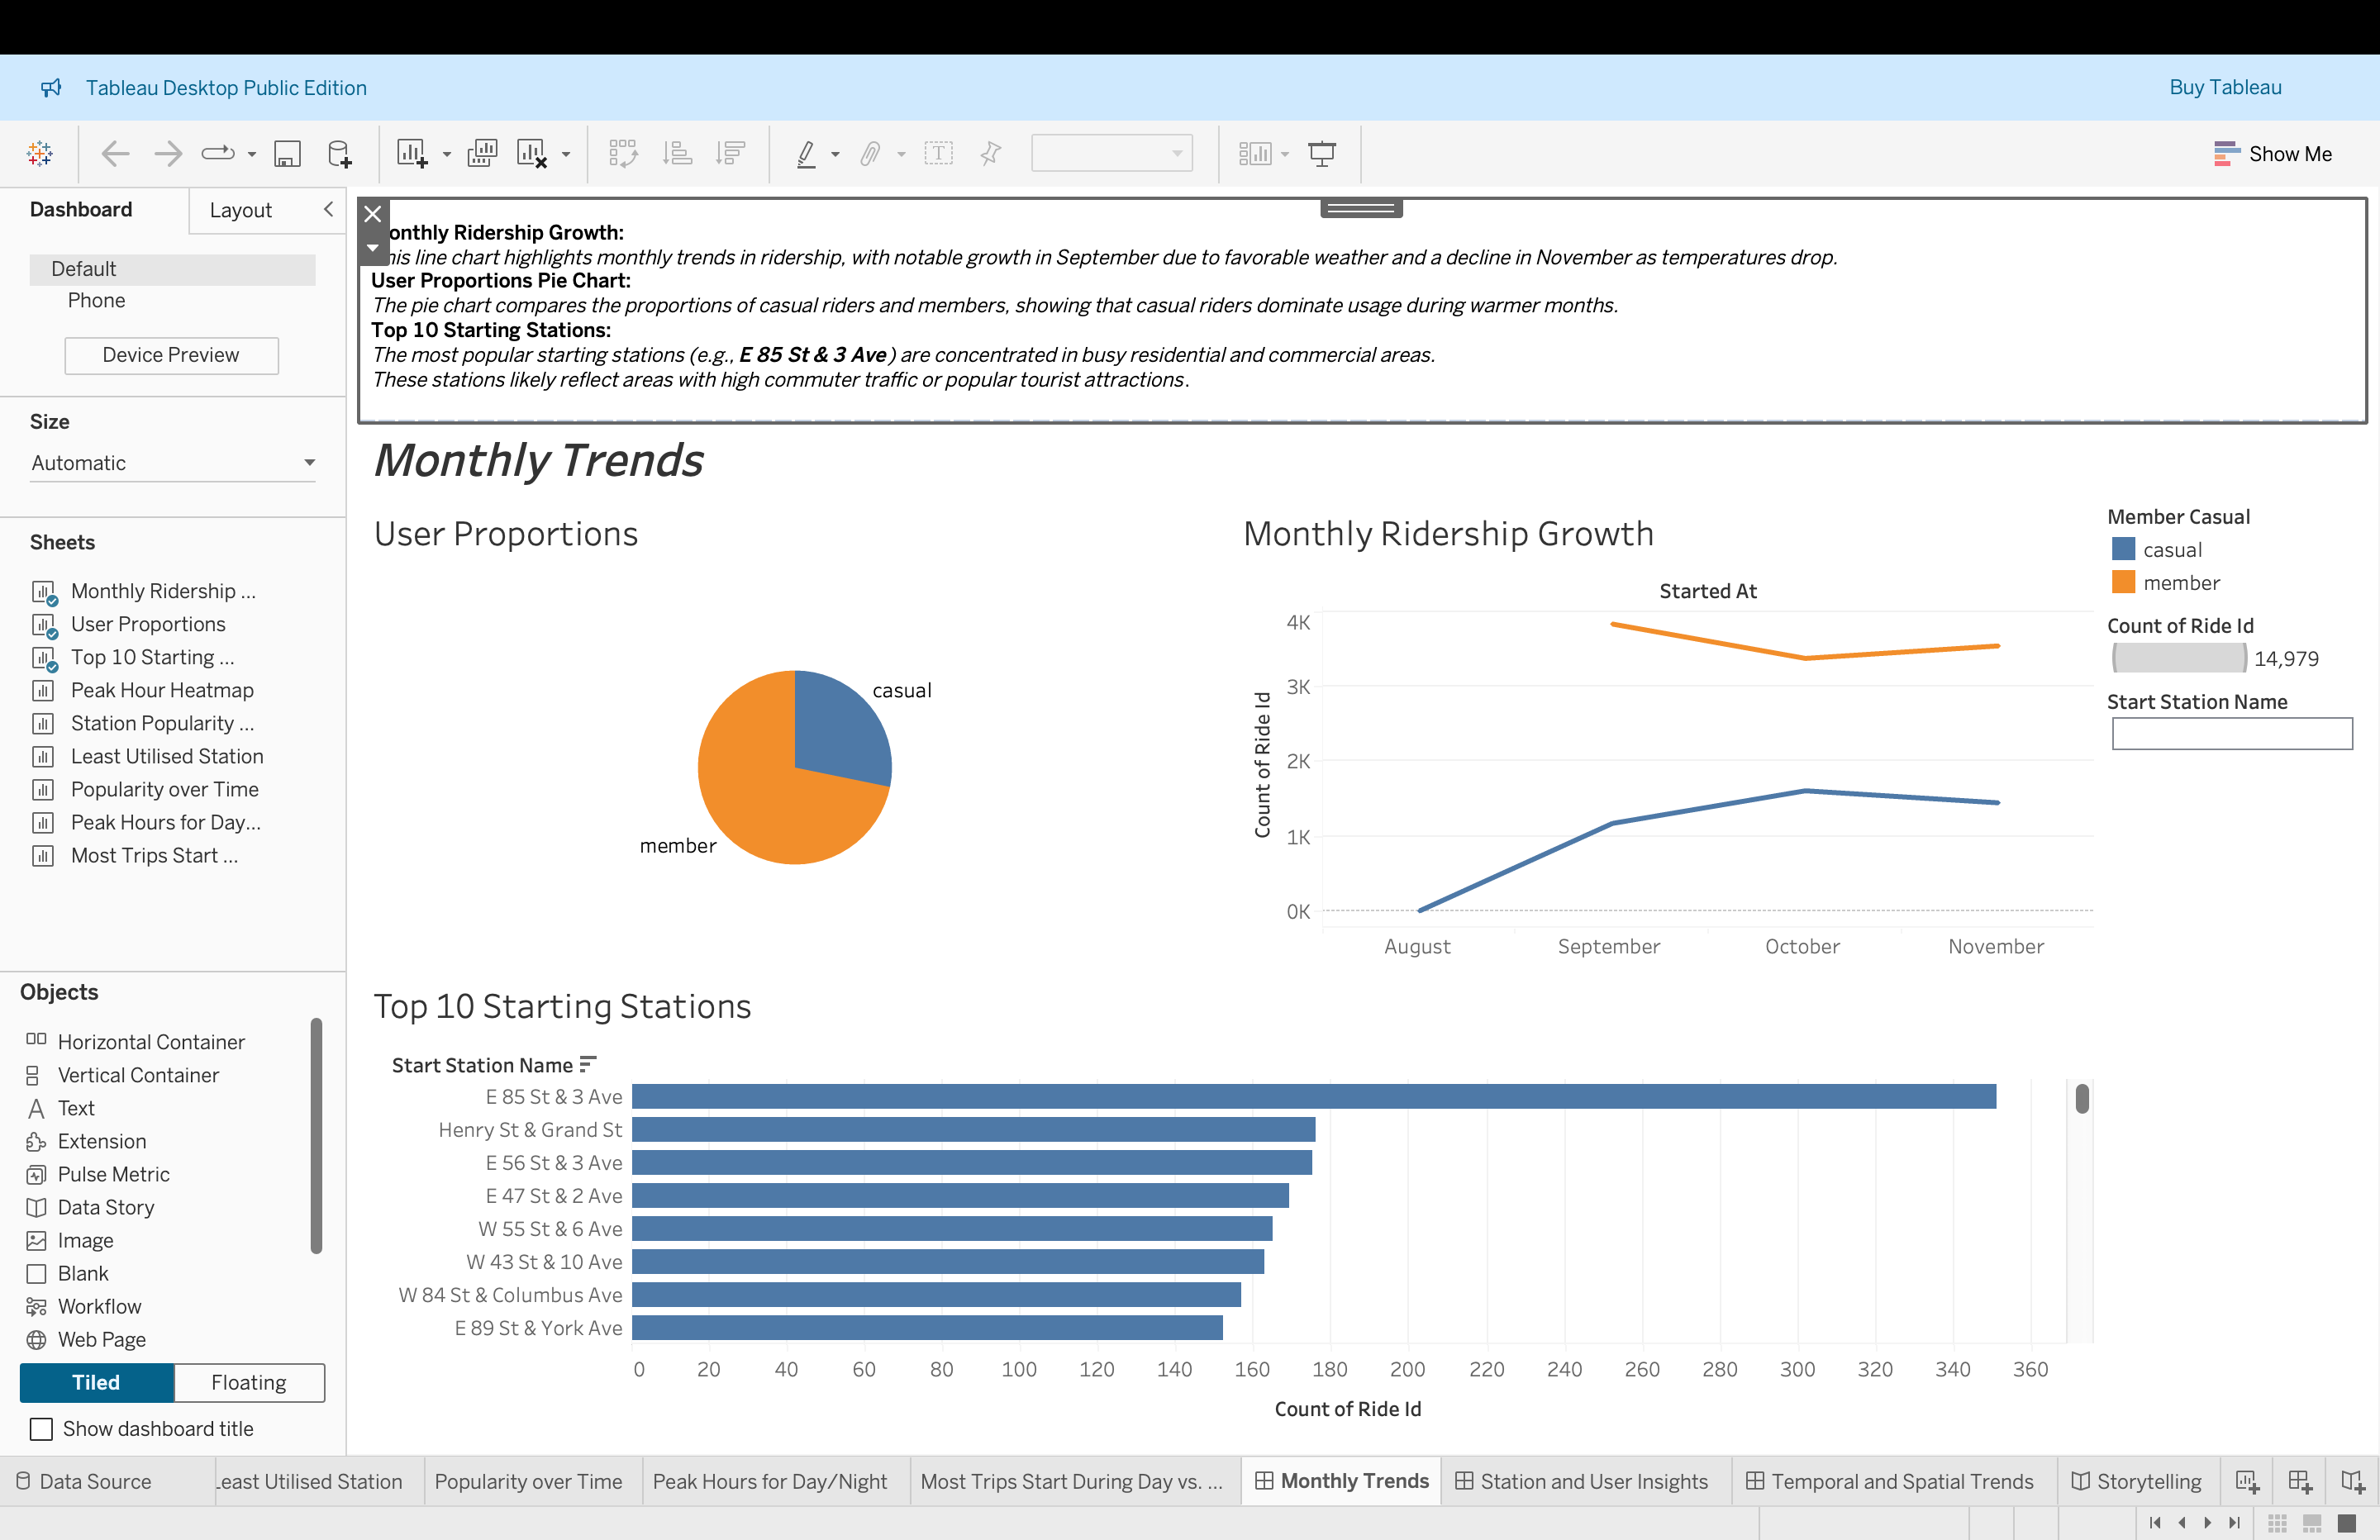

What the dashboard file says about the page in this screenshot:
{"tool":"tableau","page":{"name":"Monthly Trends","canvas":[1000,1000],"units":"permille","ordinal":0},"visuals":[{"type":"text","box":[8.5,11.5,983,174.3]},{"type":"title","box":[8.5,185.9,983,64.8]},{"type":"worksheet","title":"User Proportions","mark":"Pie","box":[8.5,250.7,406.5,368.8]},{"type":"worksheet","title":"Monthly Ridership Growth","mark":"Automatic","rows":["Ride Id"],"cols":["Started At"],"box":[415,250.7,406.9,368.8]},{"type":"legend","title":"Monthly Ridership Growth","param":"[federated.135g5j40vtv48m1bom8z51b5k51r].[none:Member Casual:nk]","box":[821.9,250.7,169.7,95.1]},{"type":"legend","title":"User Proportions","param":"[federated.135g5j40vtv48m1bom8z51b5k51r].[cnt:Ride Id:qk]","box":[821.9,345.8,169.7,66.3]},{"type":"filter","title":"Top 10 Starting Stations","param":"[federated.135g5j40vtv48m1bom8z51b5k51r].[none:Start Station Name:nk]","box":[821.9,412.1,169.7,70.6]},{"type":"worksheet","title":"Top 10 Starting Stations","mark":"Automatic","rows":["Start Station Name"],"cols":["Ride Id"],"box":[8.5,619.6,813.4,368.9]}]}

Visuals, with their boxes on the dashboard's canvas, which has no fixed pixel size, in thousandths of its width and height (x1, y1, x2, y2). These are canvas units, not pixel positions in the 2380x1540 screenshot, which may show the page scaled, cropped or inside an application window:
text: l=8, t=12, r=992, b=186
title: l=8, t=186, r=992, b=251
"User Proportions" worksheet (Pie marks): l=8, t=251, r=415, b=620
"Monthly Ridership Growth" worksheet: l=415, t=251, r=822, b=620
"Monthly Ridership Growth" legend: l=822, t=251, r=992, b=346
"User Proportions" legend: l=822, t=346, r=992, b=412
"Top 10 Starting Stations" filter: l=822, t=412, r=992, b=483
"Top 10 Starting Stations" worksheet: l=8, t=620, r=822, b=988
